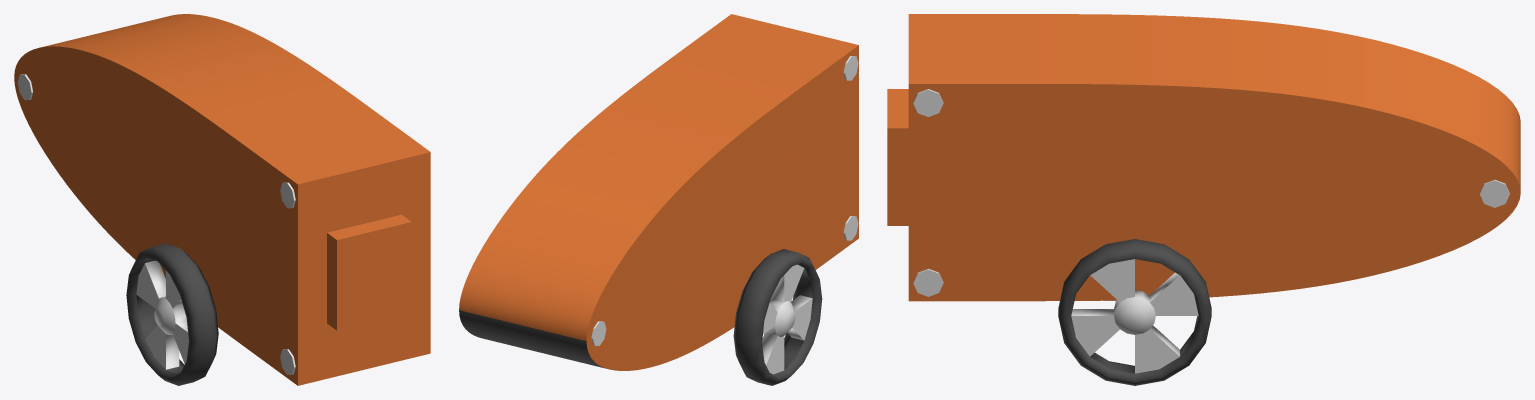
File: TCS_Exhibition_Machine_Best_FrontControl.fbx
3 renders of one model, left to right at view 1: azimuth 30°, elevation 25°; view 2: azimuth 150°, elevation 25°; view 3: azimuth 270°, elevation 25°, orthographic. The views are drawn at different scales.
Parts seen in each view (by area): view 1: Cube.029, Cylinder.041, Cube.030, Cylinder.044; view 2: Cube.029, Cylinder.041, Cylinder.044; view 3: Cube.029, Cylinder.041, Cube.030, Cylinder.044, Cylinder.045.
Part boxes in pixels (x1,y1,x2,y2): Cube.029: (14, 14, 430, 385); Cylinder.041: (126, 243, 218, 385); Cube.030: (327, 214, 411, 330); Cylinder.044: (280, 182, 295, 374); Cube.029: (459, 14, 858, 370); Cylinder.041: (733, 249, 822, 385); Cylinder.044: (843, 56, 858, 240); Cube.029: (908, 14, 1520, 301); Cylinder.041: (1058, 239, 1211, 385); Cube.030: (887, 89, 908, 225); Cylinder.044: (913, 89, 943, 296); Cylinder.045: (1479, 180, 1509, 207).
Size of the model in its own units: 0.9834 by 1.23 by 2.46.
